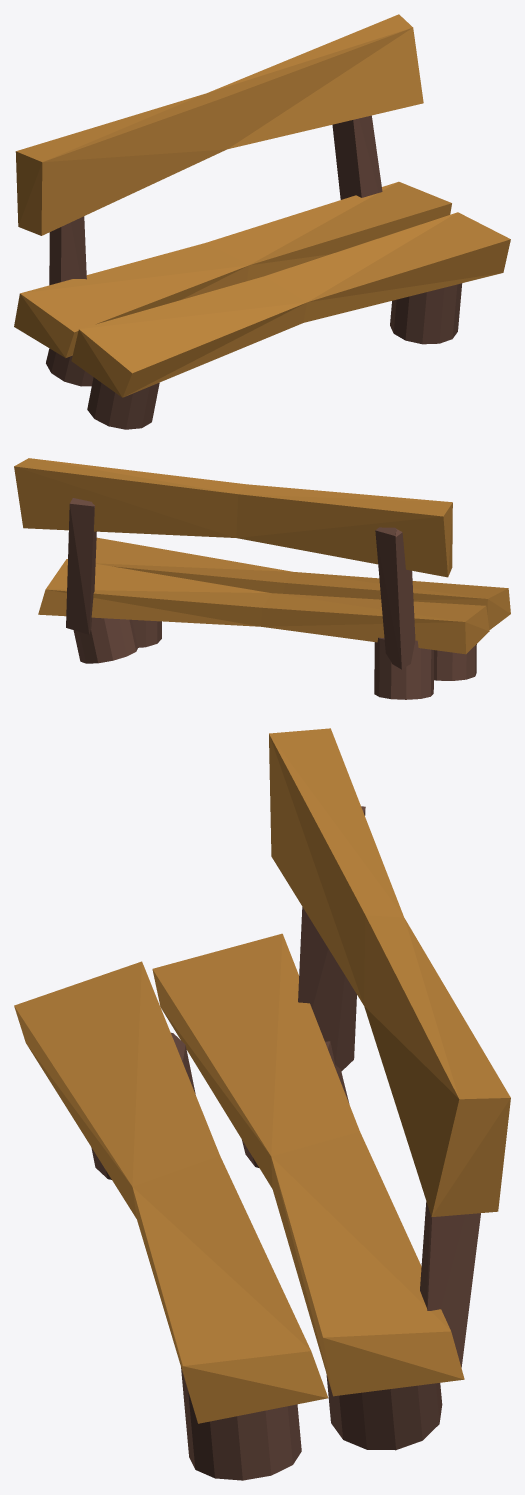
File: bench.glb
3 views of the same model, one above another, from view 1: azimuth 30°, elevation 25°; view 2: azimuth 150°, elevation 25°; view 3: azimuth 270°, elevation 25° (orthographic). The views are drawn at different scales.
Parts seen in each view (by area): view 1: node_MeshObject-400393664-PolyPaper20; view 2: node_MeshObject-400393664-PolyPaper20; view 3: node_MeshObject-400393664-PolyPaper20.
Boxes of the visible parts, x1,y1,x2,y2 form: node_MeshObject-400393664-PolyPaper20: [14, 14, 510, 429]; node_MeshObject-400393664-PolyPaper20: [14, 458, 510, 699]; node_MeshObject-400393664-PolyPaper20: [14, 728, 510, 1480].
Size of the model in its own units: 0.9418 by 0.4947 by 0.5271.
